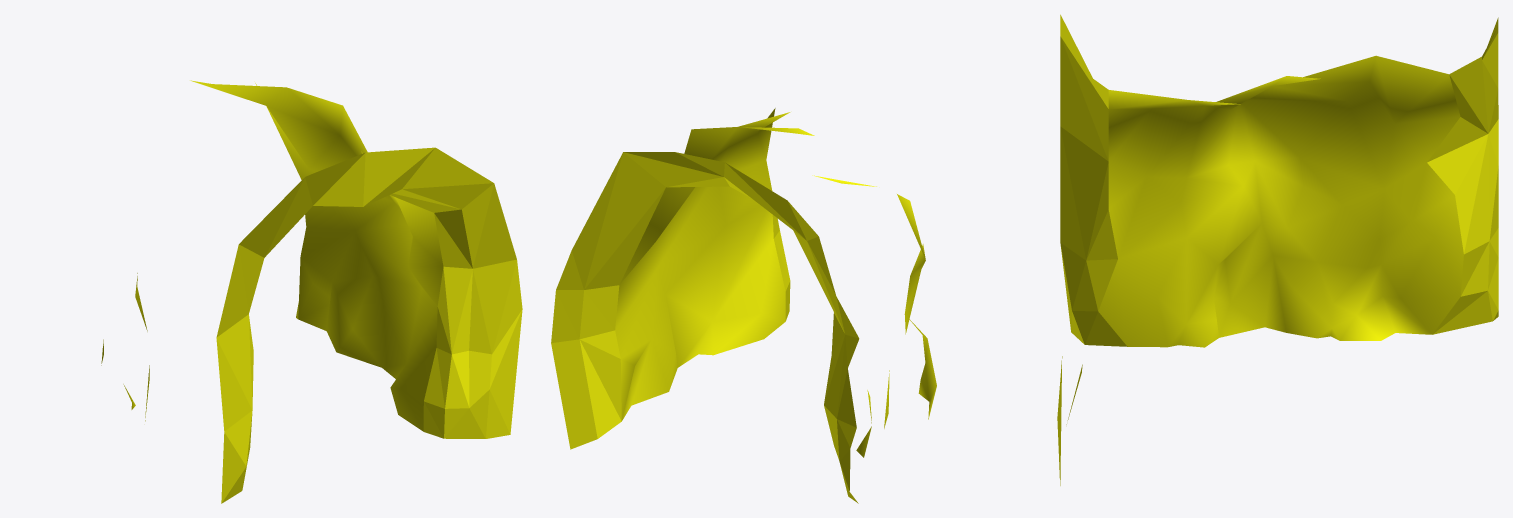
File: cliff_tunnel_01_lod_01.glb
3 views of the same model, side by side, from view 1: azimuth 30°, elevation 25°; view 2: azimuth 150°, elevation 25°; view 3: azimuth 270°, elevation 25° (orthographic). The views are drawn at different scales.
Visible parts, largest first — view 1: cliff_tunnel_01; view 2: cliff_tunnel_01; view 3: cliff_tunnel_01.
Boxes of the visible parts, left/top/right/bottom form: cliff_tunnel_01: left=101, top=80, right=522, bottom=503; cliff_tunnel_01: left=551, top=108, right=936, bottom=503; cliff_tunnel_01: left=1057, top=14, right=1498, bottom=485.
Bounding box in the file's own units: 75.99 × 75.77 × 77.39.
Materials: 1 (1 with a texture image).
